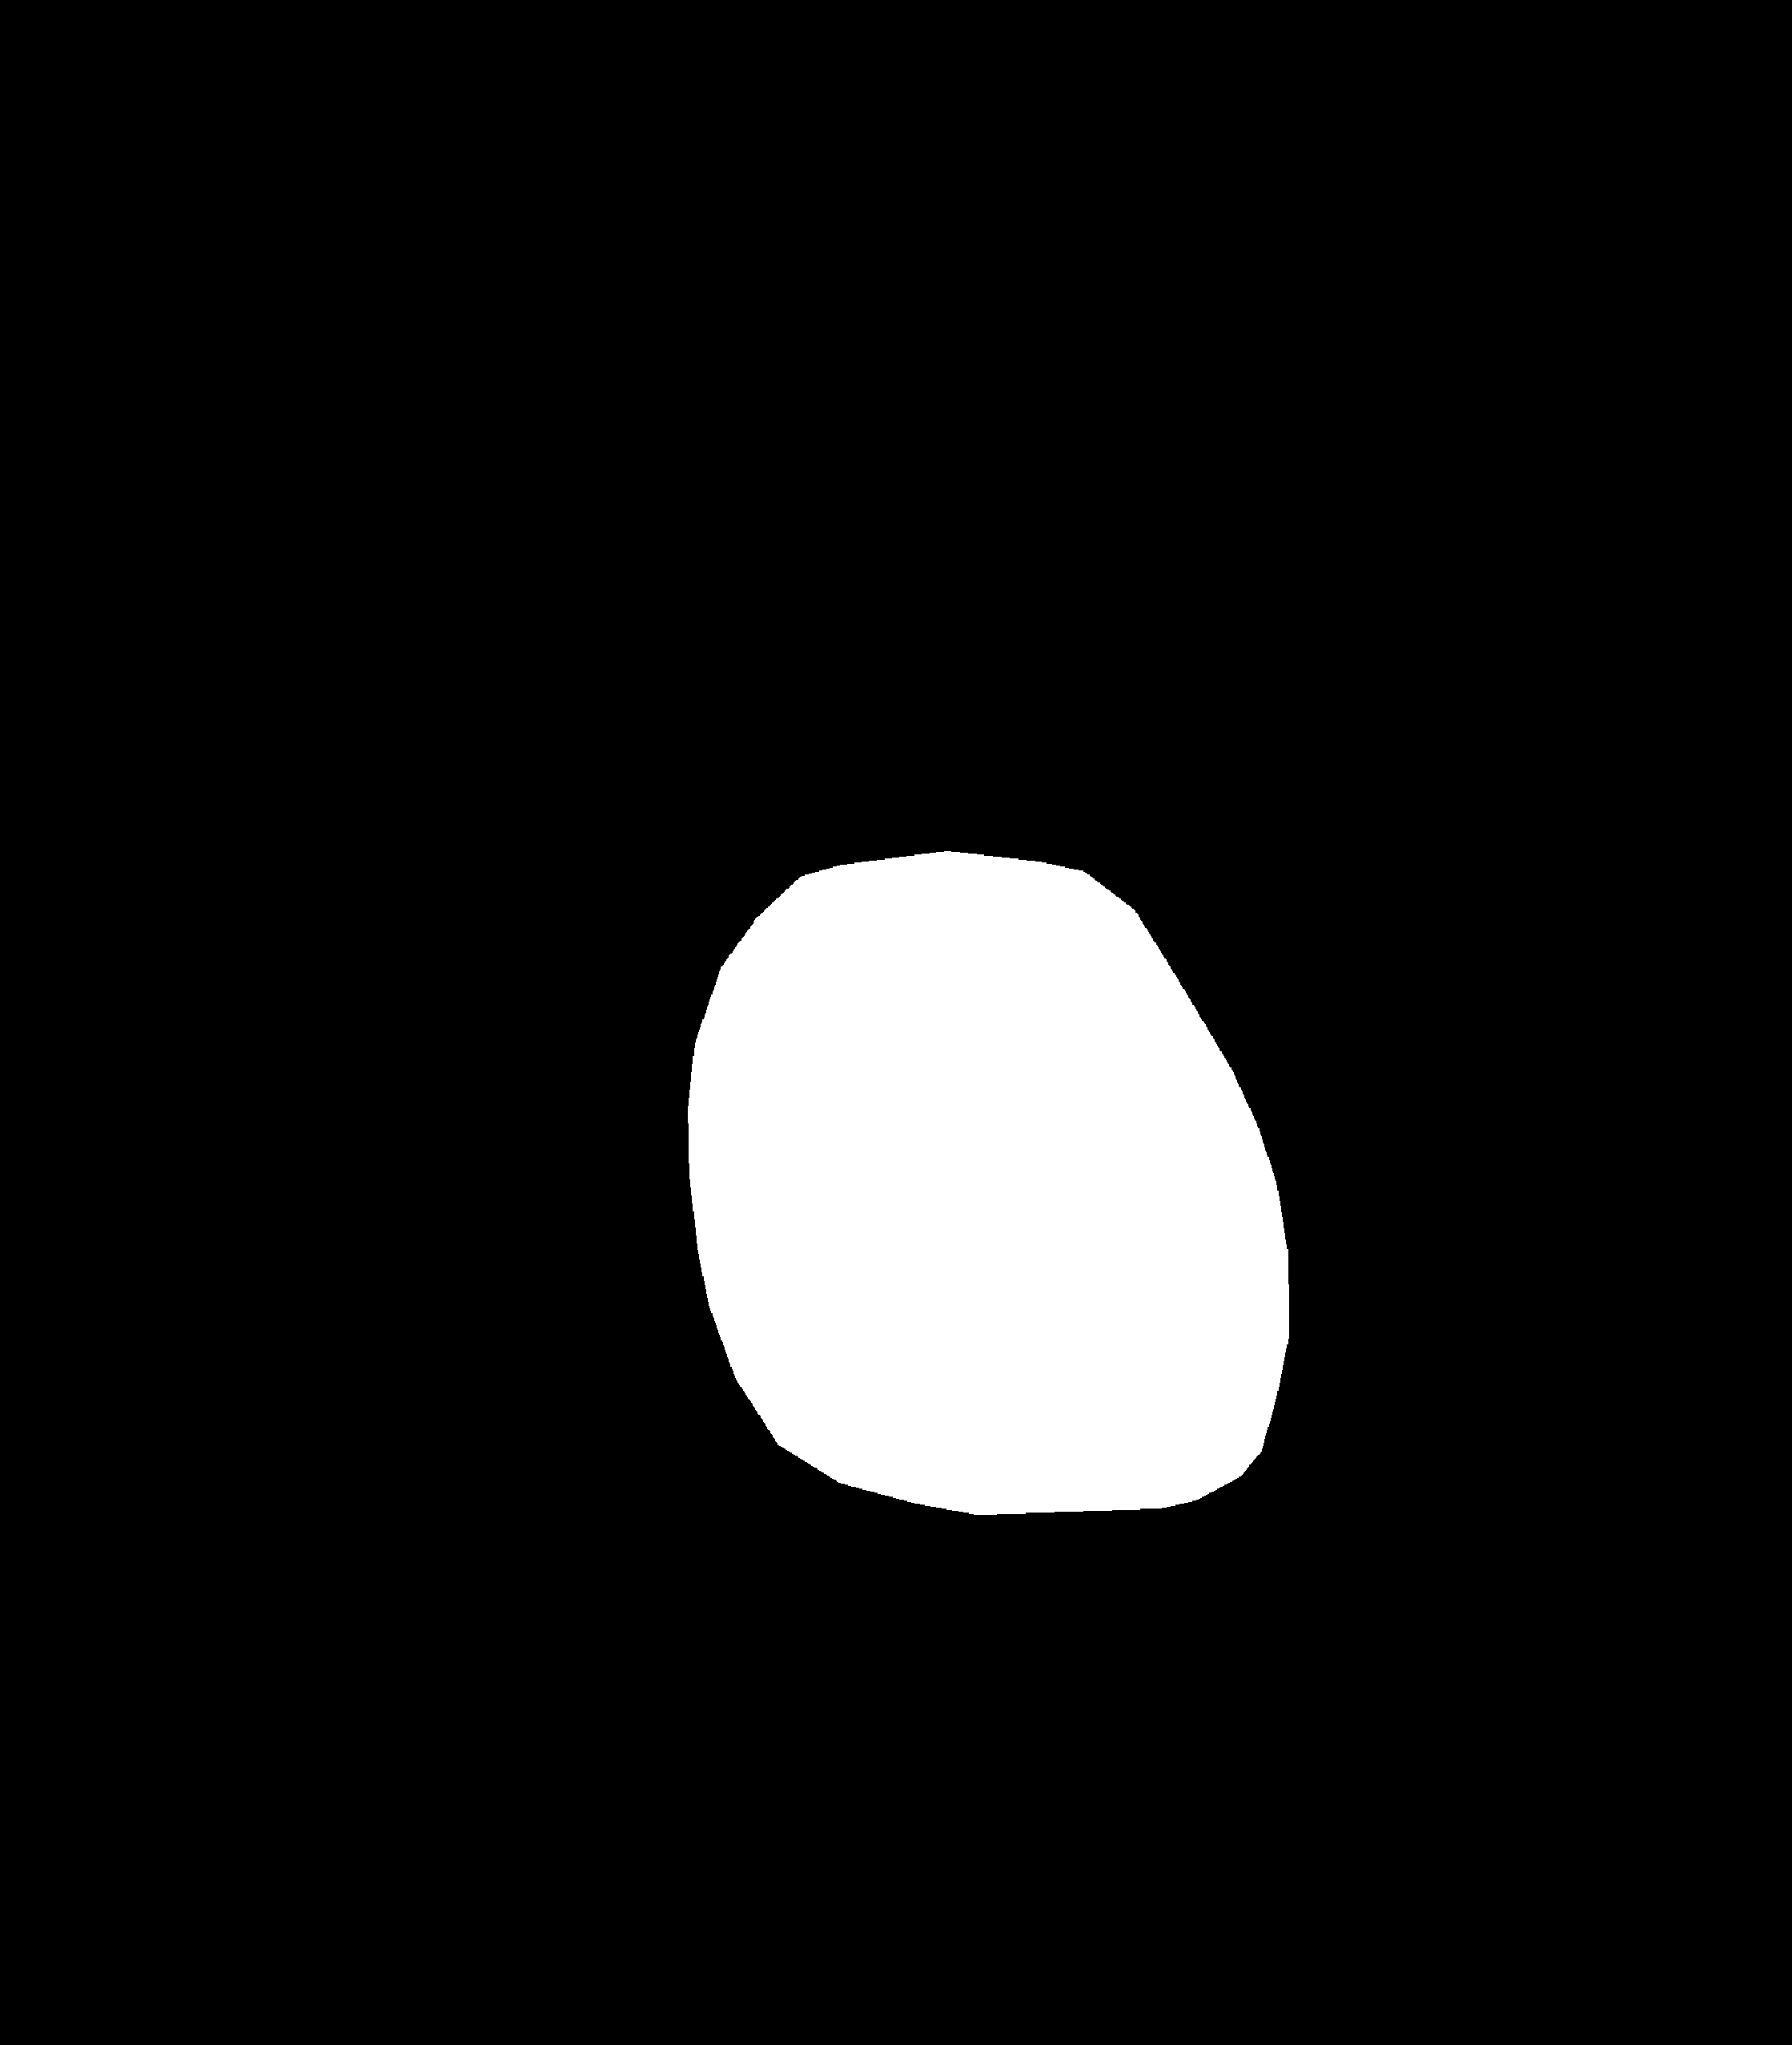heart: (689, 883, 1287, 1560)
left_lung: (193, 230, 866, 1640)
right_lung: (1016, 247, 1604, 1786)
